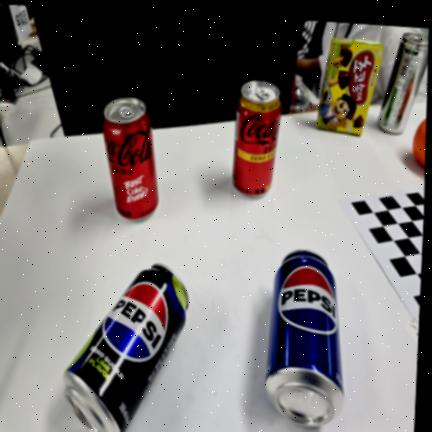can_coke_decaf: (232, 80, 281, 196)
can_coke_zero: (102, 97, 158, 219)
can_pepsi: (265, 249, 343, 426)
can_pepsi_zero: (63, 263, 188, 432)
